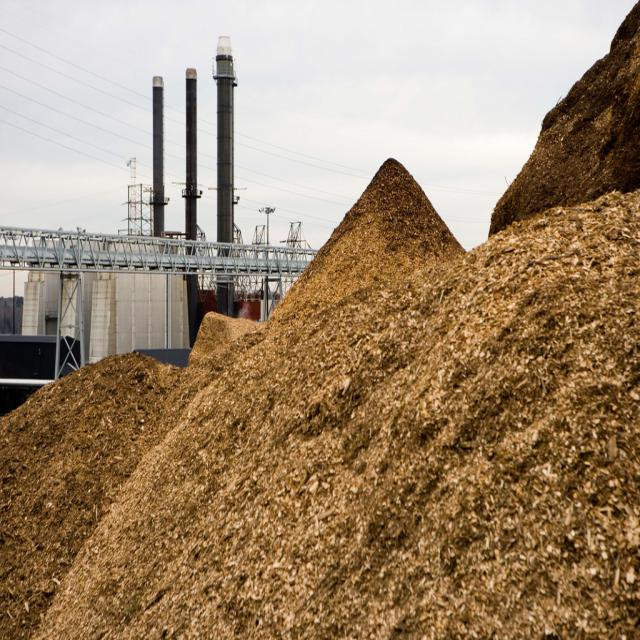green waste: (0, 0, 640, 636)
